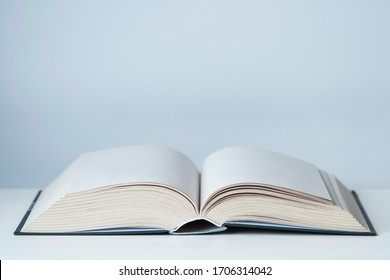Open Book: (19, 144, 378, 239)
